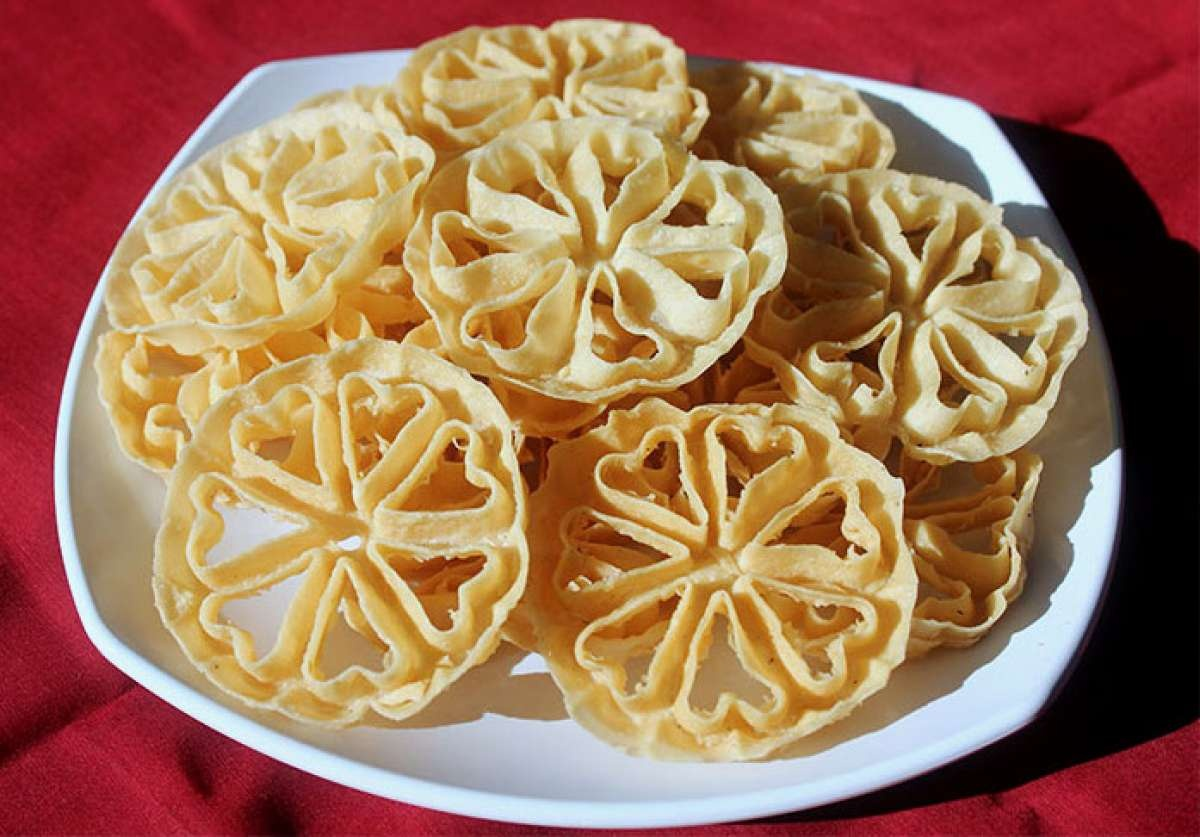kembang_goyang: (528, 380, 908, 773), (148, 334, 506, 726), (401, 127, 770, 397)
